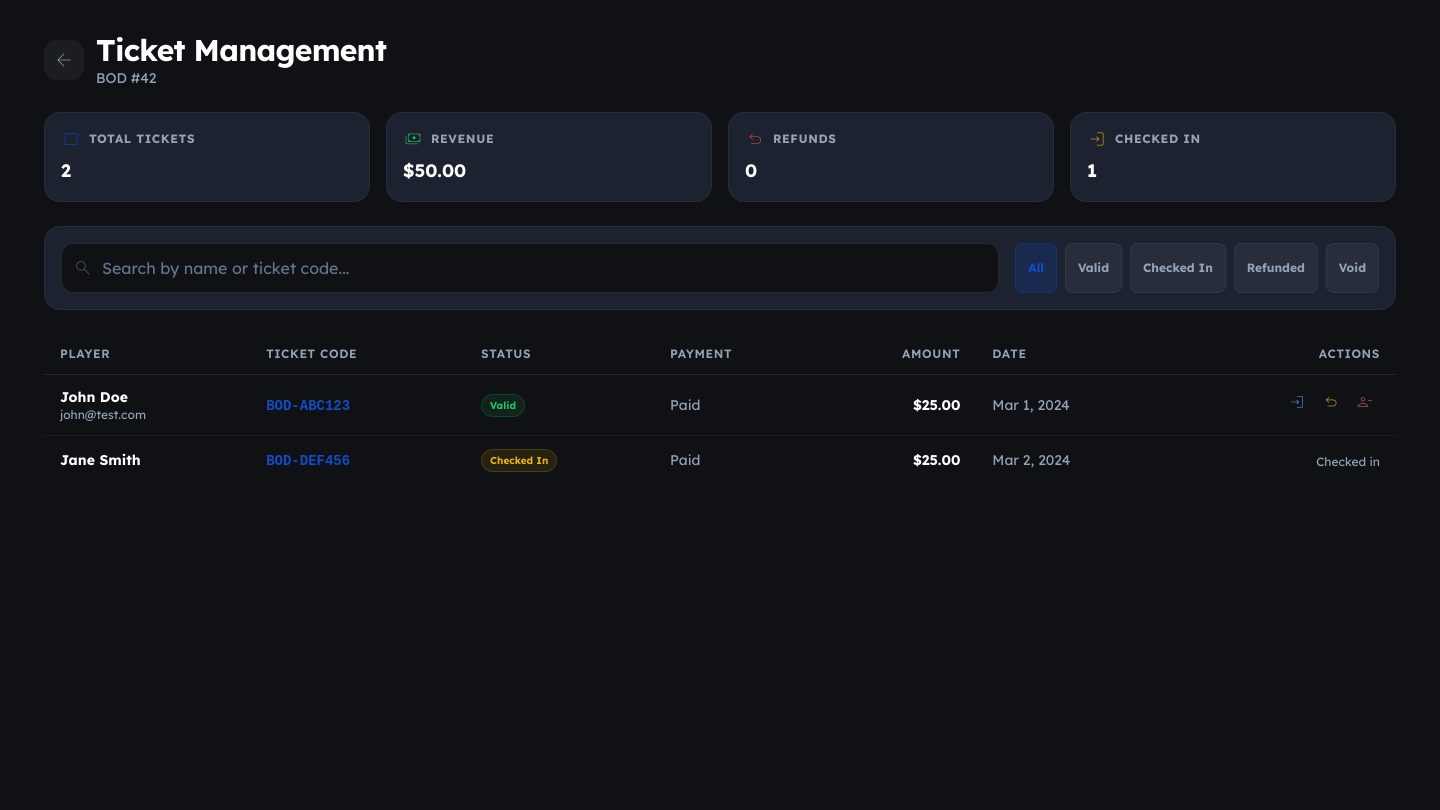
Test: TournamentTicketsPage › shows confirmation modal on refund click
Click the button titled "Refund". click: (1331, 405)
box: [1316, 387, 1346, 423]
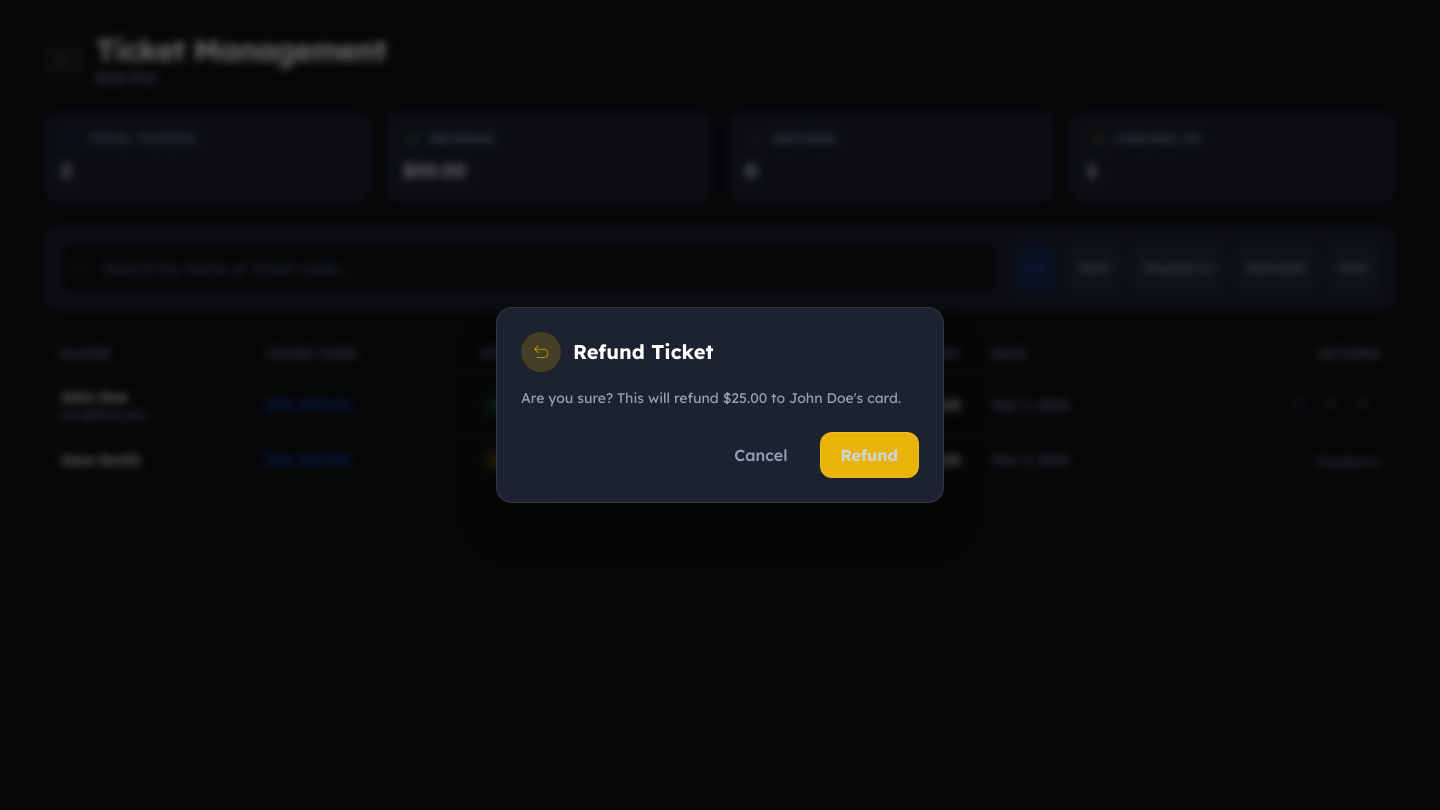
Check: the heading "Refund Ticket" is shown, box [573, 338, 713, 366]
Check: the text "Are you sure? This will refund $25.00 to John Doe's card." is shown, box [521, 388, 919, 408]
